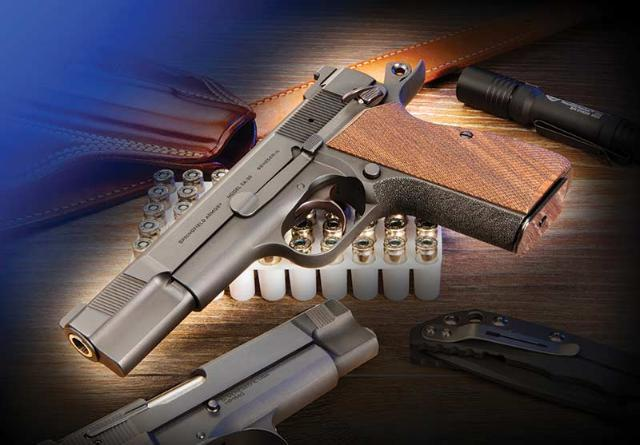handgun: (58, 54, 578, 384)
